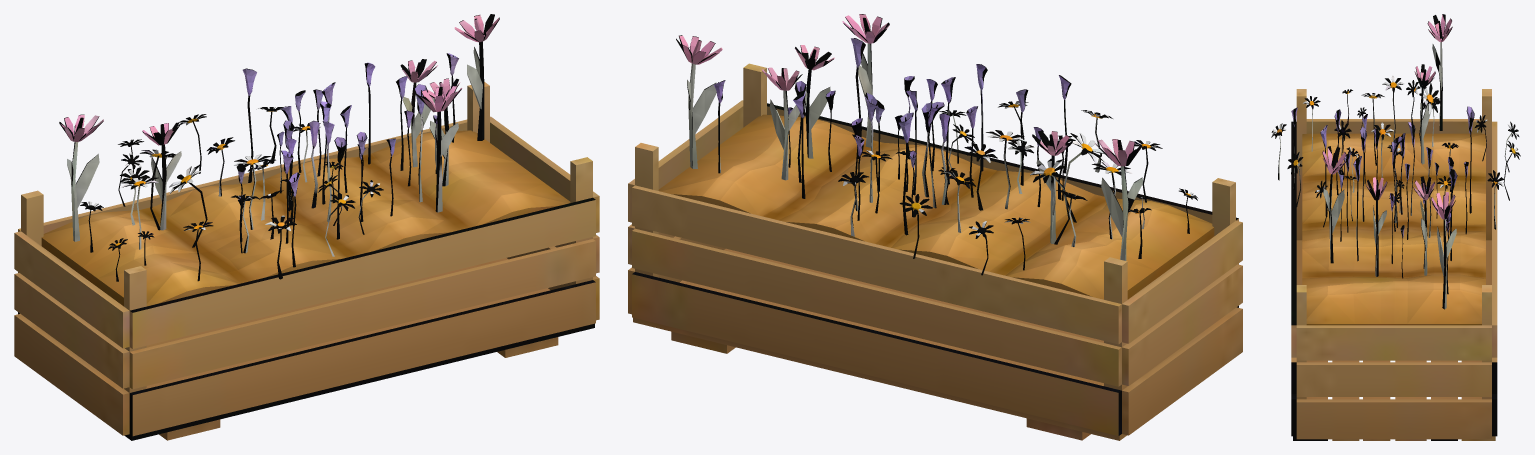
File: flowerbed_crate.glb
3 renders of one model, left to right at view 1: azimuth 30°, elevation 25°; view 2: azimuth 150°, elevation 25°; view 3: azimuth 270°, elevation 25°, orthographic. The views are drawn at different scales.
Parts seen in each view (by area): view 1: flowerbed_crate; view 2: flowerbed_crate; view 3: flowerbed_crate.
Part boxes in pixels (x1,y1,x2,y2): flowerbed_crate: [14, 14, 599, 440]; flowerbed_crate: [628, 14, 1242, 440]; flowerbed_crate: [1271, 14, 1520, 440].
Size of the model in its own units: 1.21 by 0.6423 by 0.61.
1 material, 1 textured.
